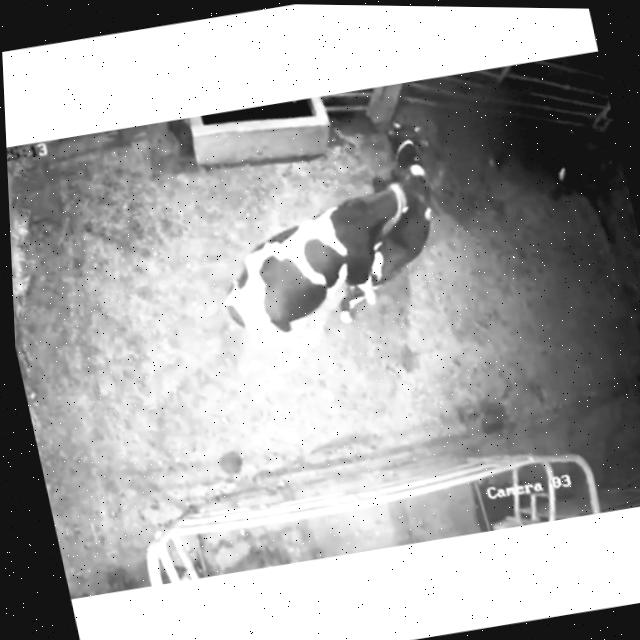ride: (159, 152, 483, 360)
